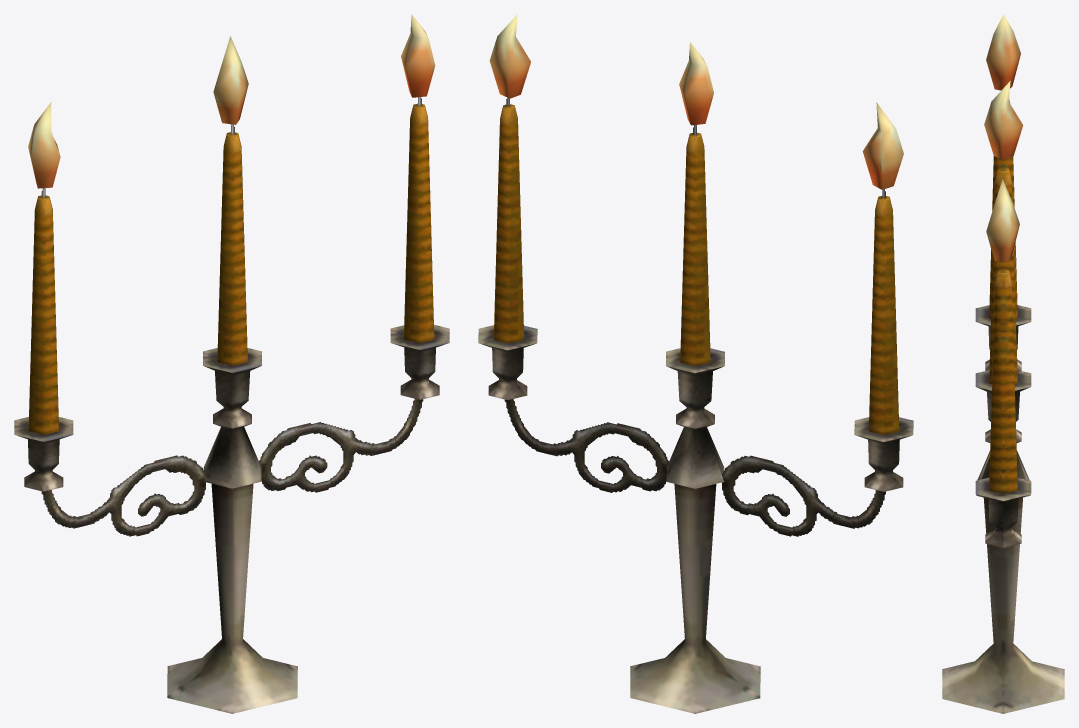
Rendered from furni_0200304_03.FBX.
The picture shows the model from 3 angles, left to right: view 1: azimuth 30°, elevation 25°; view 2: azimuth 150°, elevation 25°; view 3: azimuth 270°, elevation 25°; orthographic projection. The views are drawn at different scales.
Parts seen in each view (by area): view 1: furni_0200304_03; view 2: furni_0200304_03; view 3: furni_0200304_03.
Part boxes in pixels (<box>): furni_0200304_03: <box>14,14,449,713</box>; furni_0200304_03: <box>478,14,913,713</box>; furni_0200304_03: <box>942,14,1064,713</box>.
Bounding box in the file's own units: 47.19 × 66.65 × 12.26.
